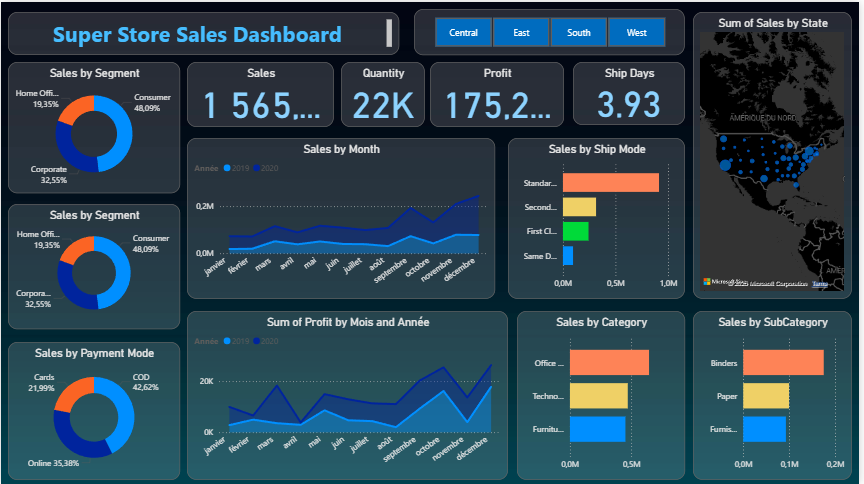

Layout of this report page (visuals, bound fields, positions):
{"tool":"powerbi","page":{"name":"Page 1","canvas":[1280,720],"ordinal":0},"visuals":[{"type":"clusteredBarChart","title":"Sales by Category","fields":{"Category":["SuperStore_Sales_Dataset.Category"],"Y":["Sum(SuperStore_Sales_Dataset.Sales)"]},"box":[770.1,461.2,250.7,252.2],"z":0},{"type":"clusteredBarChart","title":"Sales by SubCategory","fields":{"Category":["SuperStore_Sales_Dataset.Sub-Category"],"Y":["Sum(SuperStore_Sales_Dataset.Sales)"]},"box":[1032.8,461.2,237.3,252.2],"z":1000},{"type":"clusteredBarChart","title":"Sales by Ship Mode","fields":{"Category":["SuperStore_Sales_Dataset.Ship Mode"],"Y":["Sum(SuperStore_Sales_Dataset.Sales)"]},"box":[756.7,203,264.2,240.3],"z":2000},{"type":"stackedAreaChart","title":"Sales by Month","fields":{"Y":["Sum(SuperStore_Sales_Dataset.Sales)"],"Series":["SuperStore_Sales_Dataset.Order Date.Variation.Hiérarchie de dates.Année"],"Category":["SuperStore_Sales_Dataset.Order Date.Variation.Hiérarchie de dates.Mois","SuperStore_Sales_Dataset.Order Date.Variation.Hiérarchie de dates.Jour"]},"box":[277.6,203,459.7,240.3],"z":3000},{"type":"stackedAreaChart","fields":{"Series":["SuperStore_Sales_Dataset.Order Date.Variation.Hiérarchie de dates.Année"],"Category":["SuperStore_Sales_Dataset.Order Date.Variation.Hiérarchie de dates.Mois","SuperStore_Sales_Dataset.Order Date.Variation.Hiérarchie de dates.Jour"],"Y":["Sum(SuperStore_Sales_Dataset.Profit)"]},"box":[277.6,461.2,479.1,252.2],"z":4000},{"type":"map","fields":{"Category":["SuperStore_Sales_Dataset.State"],"Size":["Sum(SuperStore_Sales_Dataset.Sales)"]},"box":[1032.8,14.9,237.3,428.4],"z":5000},{"type":"donutChart","title":"Sales by Segment","fields":{"Category":["SuperStore_Sales_Dataset.Segment"],"Y":["Sum(SuperStore_Sales_Dataset.Sales)"]},"box":[10.4,301.5,256.7,186.6],"z":6000},{"type":"donutChart","title":"Sales by Payment Mode ","fields":{"Category":["SuperStore_Sales_Dataset.Payment Mode"],"Y":["Sum(SuperStore_Sales_Dataset.Sales)"]},"box":[10.4,507.5,256.7,206],"z":7000},{"type":"slicer","fields":{"Values":["SuperStore_Sales_Dataset.Region"]},"box":[616.4,10.4,404.5,68.7],"z":8000},{"type":"textbox","box":[10.4,14.9,583.6,64.2],"z":9000},{"type":"card","title":"Sales ","fields":{"Values":["Sum(SuperStore_Sales_Dataset.Sales)"]},"box":[277.6,89.6,219.4,97],"z":10000},{"type":"card","title":"Quantity","fields":{"Values":["Sum(SuperStore_Sales_Dataset.Quantity)"]},"box":[507.5,89.6,125.4,97],"z":11000},{"type":"card","title":"Profit ","fields":{"Values":["Sum(SuperStore_Sales_Dataset.Profit)"]},"box":[640.3,89.6,200,97],"z":12000},{"type":"card","title":"Ship Days ","fields":{"Values":["Avg(SuperStore_Sales_Dataset.AvgDelivry)"]},"box":[853.7,89.6,167.2,94],"z":13000},{"type":"donutChart","title":"Sales by Segment","fields":{"Category":["SuperStore_Sales_Dataset.Segment"],"Y":["Sum(SuperStore_Sales_Dataset.Sales)"]},"box":[10.4,89.6,256.7,195.5],"z":13001}]}

Visuals, with their boxes in screenshot pixels (x1, y1, x2, y2), scaled from the page's 1280x720 canvas onto the 864x484 screenshot:
"Sales by Category" clusteredBarChart: crop(520, 310, 689, 480)
"Sales by SubCategory" clusteredBarChart: crop(697, 310, 857, 480)
"Sales by Ship Mode" clusteredBarChart: crop(511, 136, 689, 298)
"Sales by Month" stackedAreaChart: crop(187, 136, 498, 298)
stackedAreaChart - SuperStore_Sales_Dataset.Order Date.Variation.Hiérarchie de dates.Année x SuperStore_Sales_Dataset.Order Date.Variation.Hiérarchie de dates.Mois: crop(187, 310, 511, 480)
map - SuperStore_Sales_Dataset.State x Sum(SuperStore_Sales_Dataset.Sales): crop(697, 10, 857, 298)
"Sales by Segment" donutChart: crop(7, 203, 180, 328)
"Sales by Payment Mode " donutChart: crop(7, 341, 180, 480)
slicer - SuperStore_Sales_Dataset.Region: crop(416, 7, 689, 53)
textbox: crop(7, 10, 401, 53)
"Sales " card: crop(187, 60, 335, 125)
"Quantity" card: crop(343, 60, 427, 125)
"Profit " card: crop(432, 60, 567, 125)
"Ship Days " card: crop(576, 60, 689, 123)
"Sales by Segment" donutChart: crop(7, 60, 180, 192)
